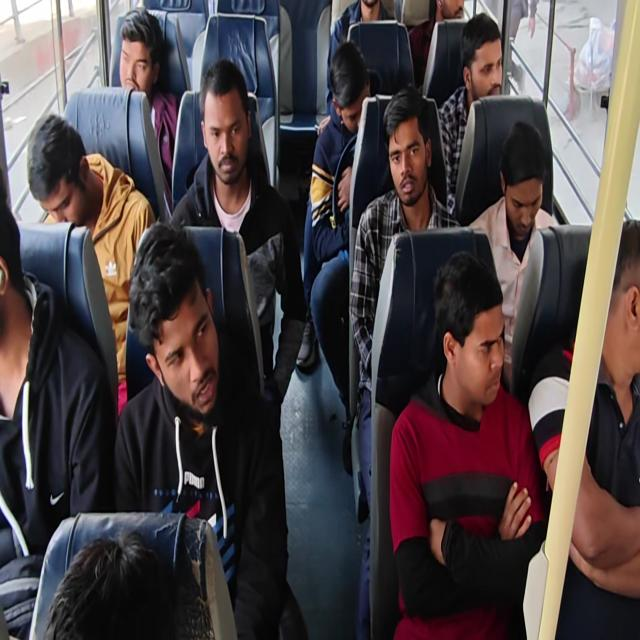person: (117, 226, 229, 429), (46, 515, 202, 640), (436, 242, 514, 438), (23, 111, 96, 234), (200, 52, 261, 198), (0, 162, 40, 354), (383, 83, 439, 218), (595, 226, 640, 385), (503, 116, 553, 242), (322, 40, 377, 144), (450, 22, 516, 106), (118, 6, 171, 102), (429, 0, 470, 18), (353, 0, 387, 19), (593, 221, 597, 229)
